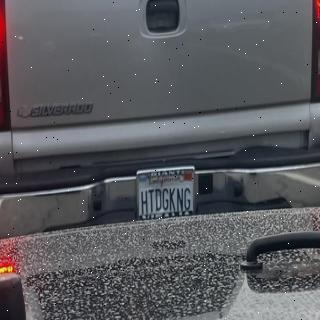license: (137, 166, 197, 223)
